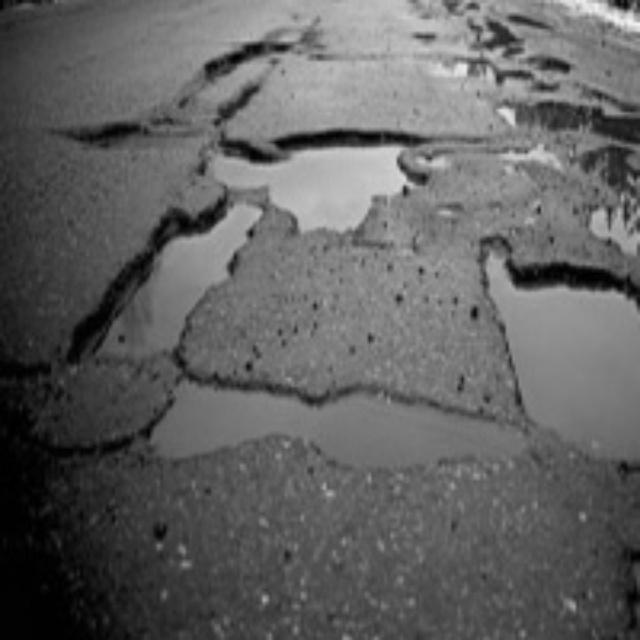Pothole: (154, 341, 436, 513), (480, 256, 640, 462), (54, 186, 244, 347), (249, 127, 423, 238), (197, 31, 296, 106)
Surface Erosion: (442, 32, 640, 264)
